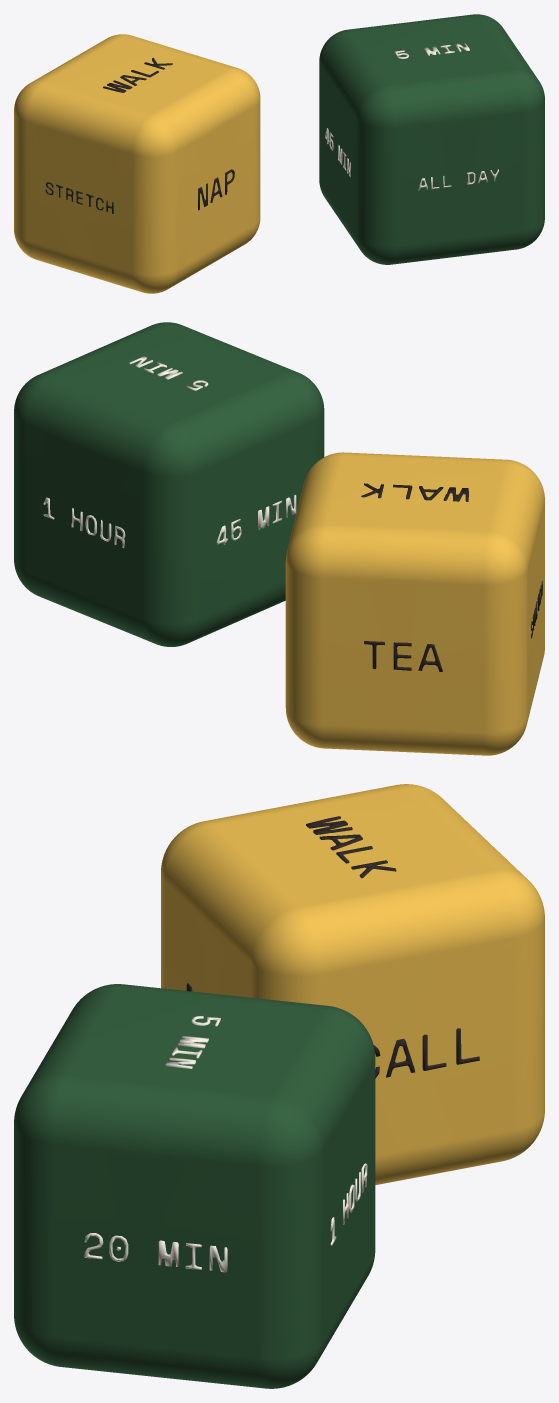
Rendered from dice.glb.
The picture shows the model from 3 angles, top to bottom: view 1: azimuth 30°, elevation 25°; view 2: azimuth 150°, elevation 25°; view 3: azimuth 270°, elevation 25°; orthographic projection. The views are drawn at different scales.
Parts seen in each view (by area): view 1: die0, die1, die0-ink, die1-ink; view 2: die1, die0, die1-ink, die0-ink; view 3: die1, die0, die1-ink, die0-ink.
Part boxes in pixels (x1,y1,x2,y2): die0: [14, 34, 260, 293]; die1: [319, 14, 544, 264]; die0-ink: [45, 57, 234, 213]; die1-ink: [325, 43, 498, 190]; die1: [14, 322, 324, 646]; die0: [285, 452, 544, 755]; die1-ink: [43, 356, 296, 547]; die0-ink: [361, 483, 542, 671]; die1: [14, 984, 375, 1388]; die0: [161, 784, 544, 1184]; die1-ink: [84, 1016, 367, 1272]; die0-ink: [186, 816, 479, 1078].
Size of the model in its own units: 0.0633 by 0.0243 by 0.0403.
